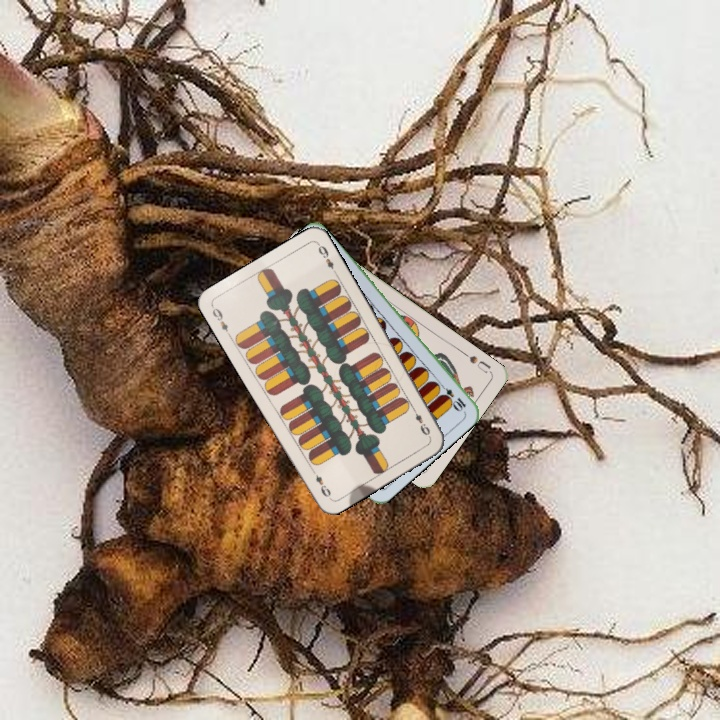E10: (435, 379, 469, 413)
E9: (208, 302, 233, 340), (408, 403, 433, 440)
SU: (458, 347, 493, 376)
